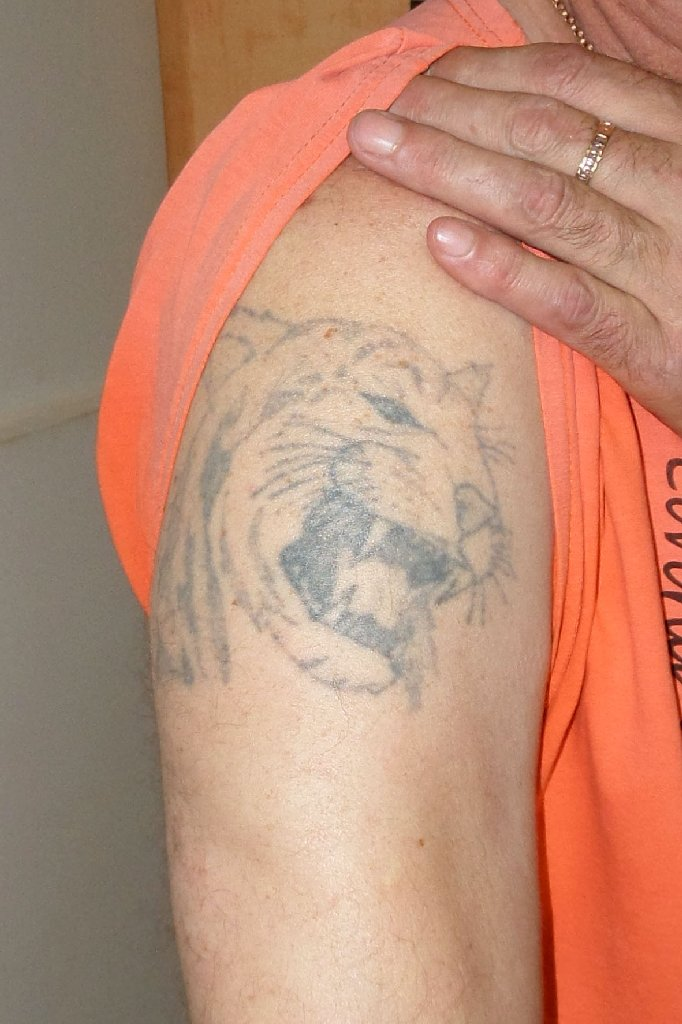tatu5_tigr: (157, 267, 535, 752)
